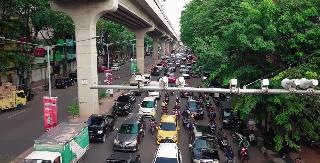mobil: (112, 114, 146, 152), (191, 126, 221, 162), (84, 114, 118, 142), (157, 112, 179, 148), (113, 92, 137, 115), (188, 96, 205, 120), (139, 96, 155, 116), (151, 67, 161, 77), (168, 73, 176, 84), (182, 69, 190, 79)
motor: (216, 125, 232, 153), (236, 136, 252, 162), (148, 112, 160, 134), (182, 108, 190, 130), (209, 116, 217, 134), (204, 98, 212, 111), (173, 105, 180, 119), (189, 114, 197, 126), (208, 108, 216, 120), (164, 94, 170, 105), (198, 94, 204, 105)
